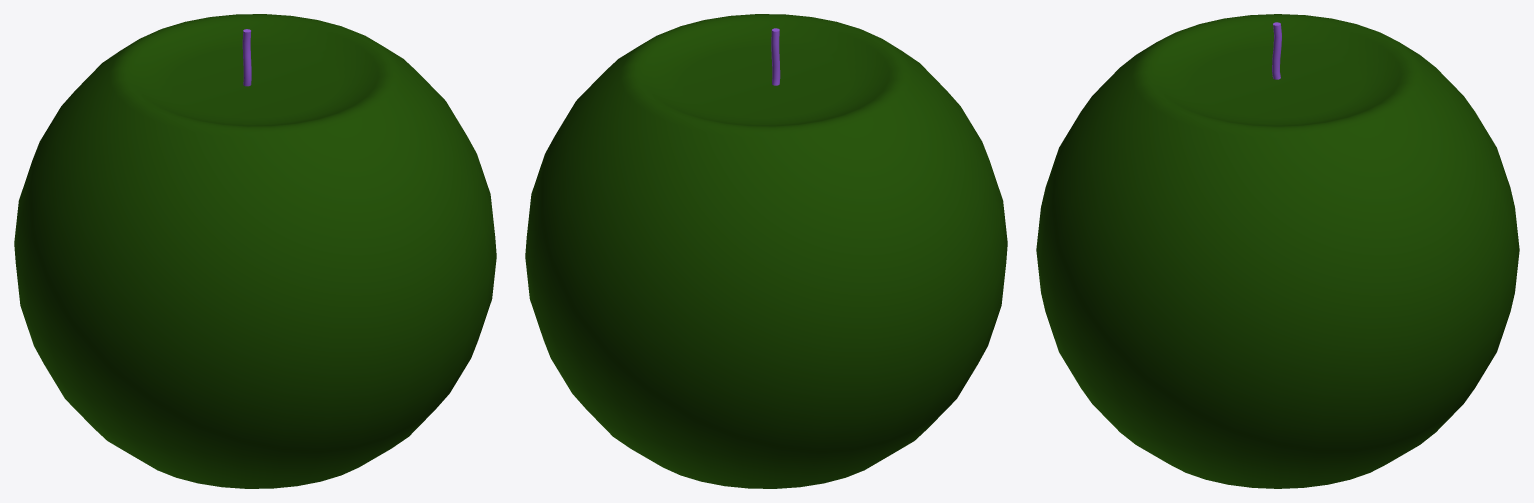
Rendered from N_Candle_Ronde_Neuve.fbx.
3 renders of one model, left to right at view 1: azimuth 30°, elevation 25°; view 2: azimuth 150°, elevation 25°; view 3: azimuth 270°, elevation 25°, orthographic.
Parts seen in each view (by area): view 1: Bougie_ronde_neuve; view 2: Bougie_ronde_neuve; view 3: Bougie_ronde_neuve.
Part boxes in pixels (x1,y1,x2,y2): Bougie_ronde_neuve: (14,14,496,488); Bougie_ronde_neuve: (525,14,1007,488); Bougie_ronde_neuve: (1036,14,1519,488).
Bounding box in the file's own units: 7.16 × 6.63 × 7.16.
